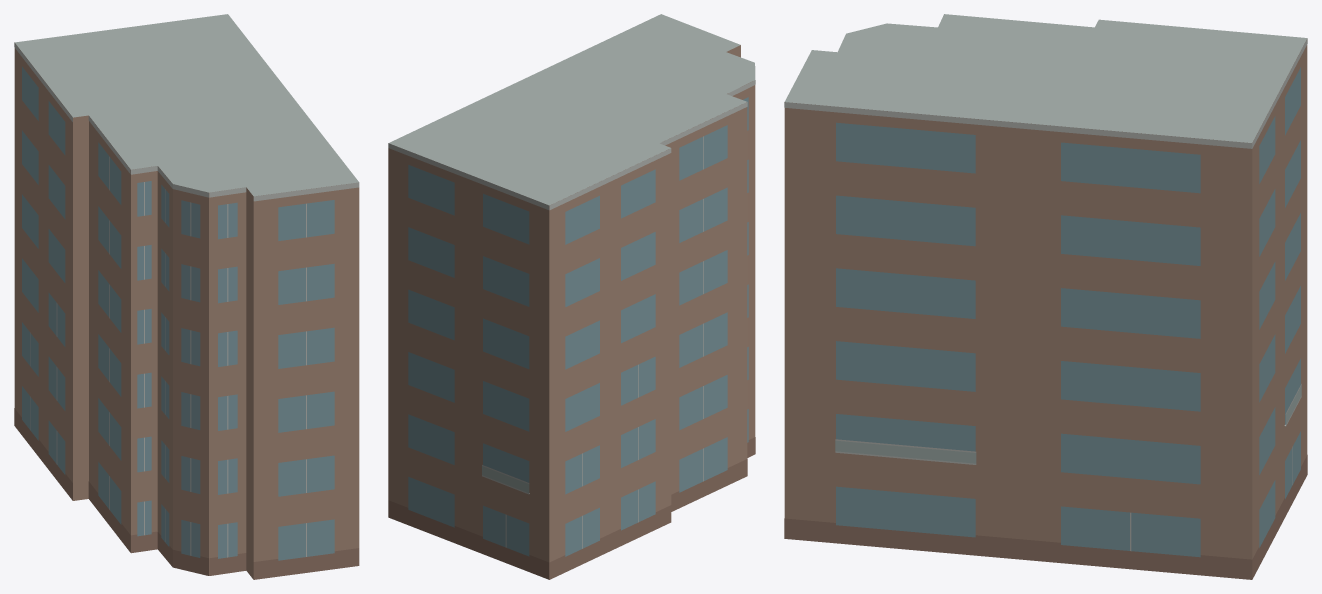
The model's file is survey-upis-32901048.glb.
3 renders of one model, left to right at view 1: azimuth 30°, elevation 25°; view 2: azimuth 150°, elevation 25°; view 3: azimuth 270°, elevation 25°, orthographic. The views are drawn at different scales.
Parts seen in each view (by area): view 1: survey-upis-32901048.tmp; view 2: survey-upis-32901048.tmp; view 3: survey-upis-32901048.tmp.
Boxes of the visible parts, box(x1,y1,x2,y2) form: survey-upis-32901048.tmp: box(14, 14, 359, 579); survey-upis-32901048.tmp: box(388, 14, 755, 579); survey-upis-32901048.tmp: box(784, 14, 1307, 579).
Size of the model in its own units: 11.74 by 18.5 by 20.09.
